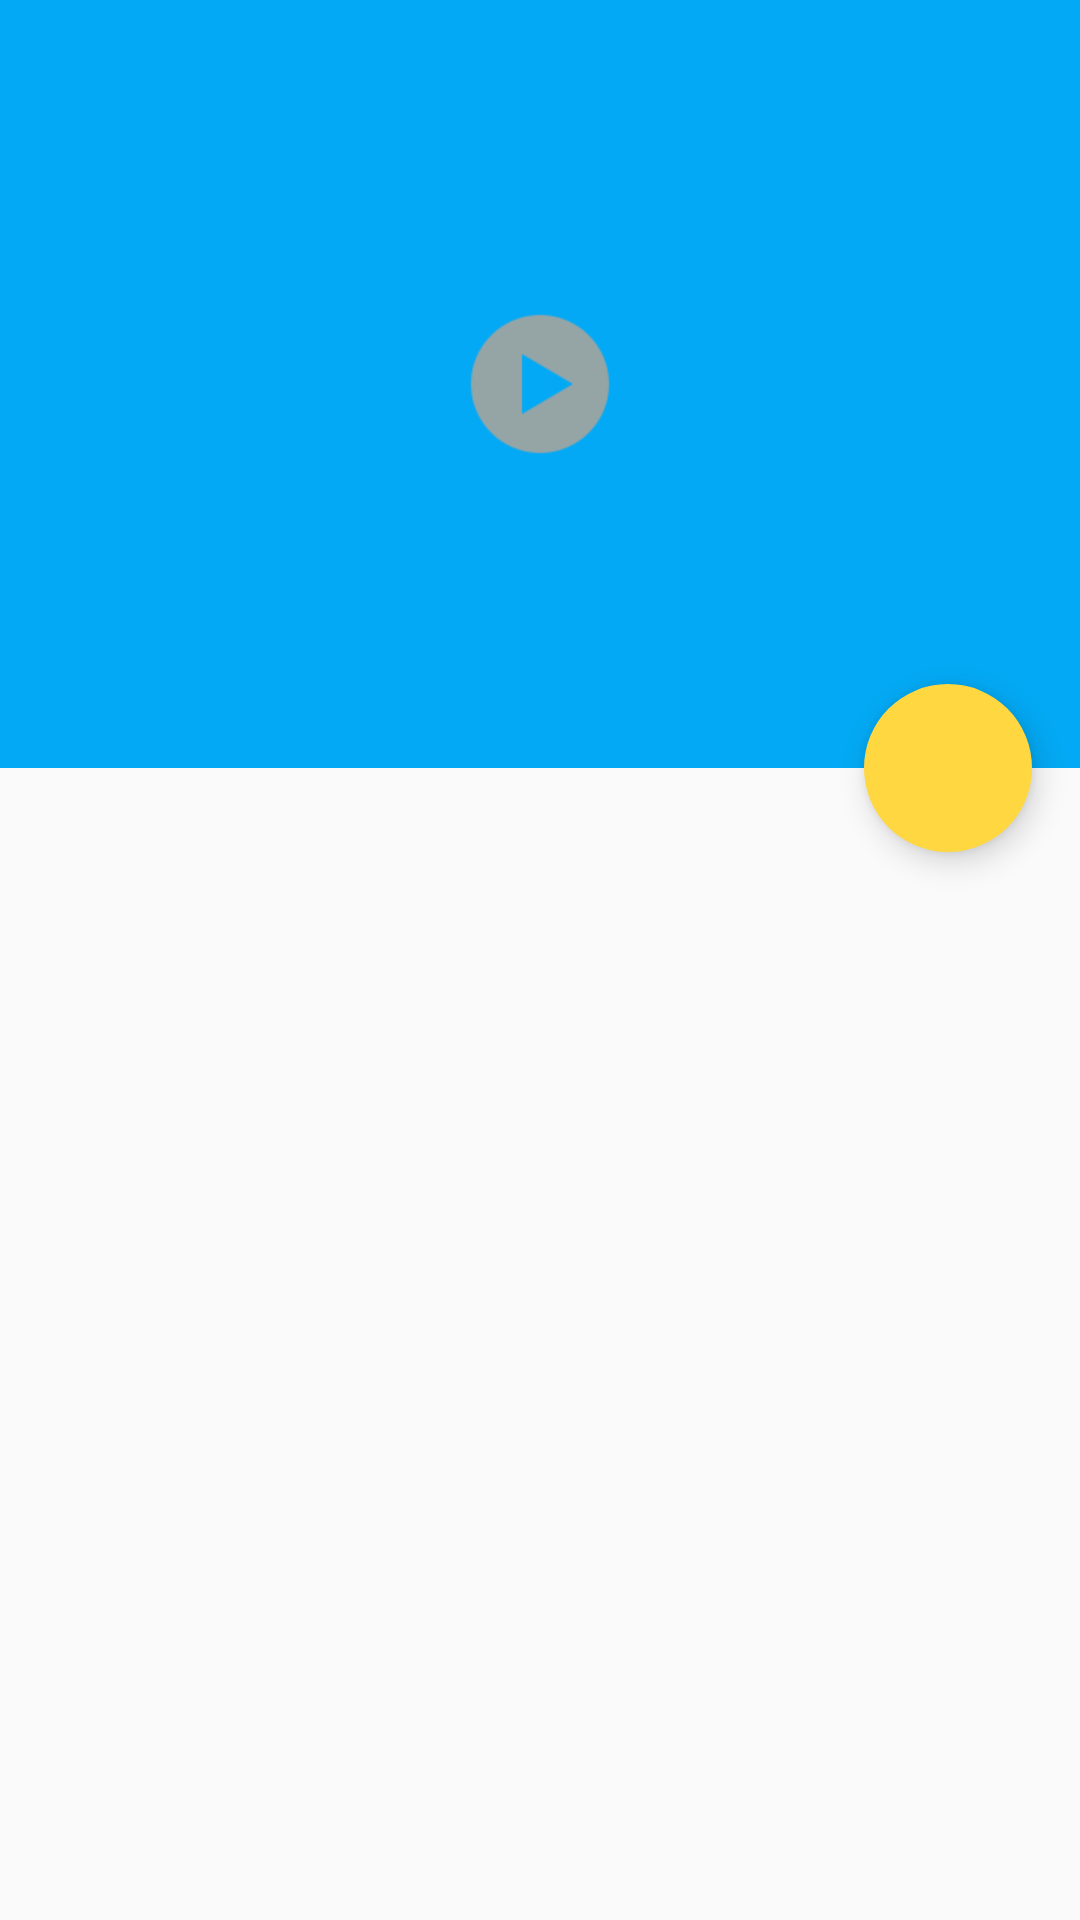

Locate icon controls on the screen. Image size 1080 × 1920, boxes as (x1, y1, x2, y2).
play: (470, 314, 610, 454)
